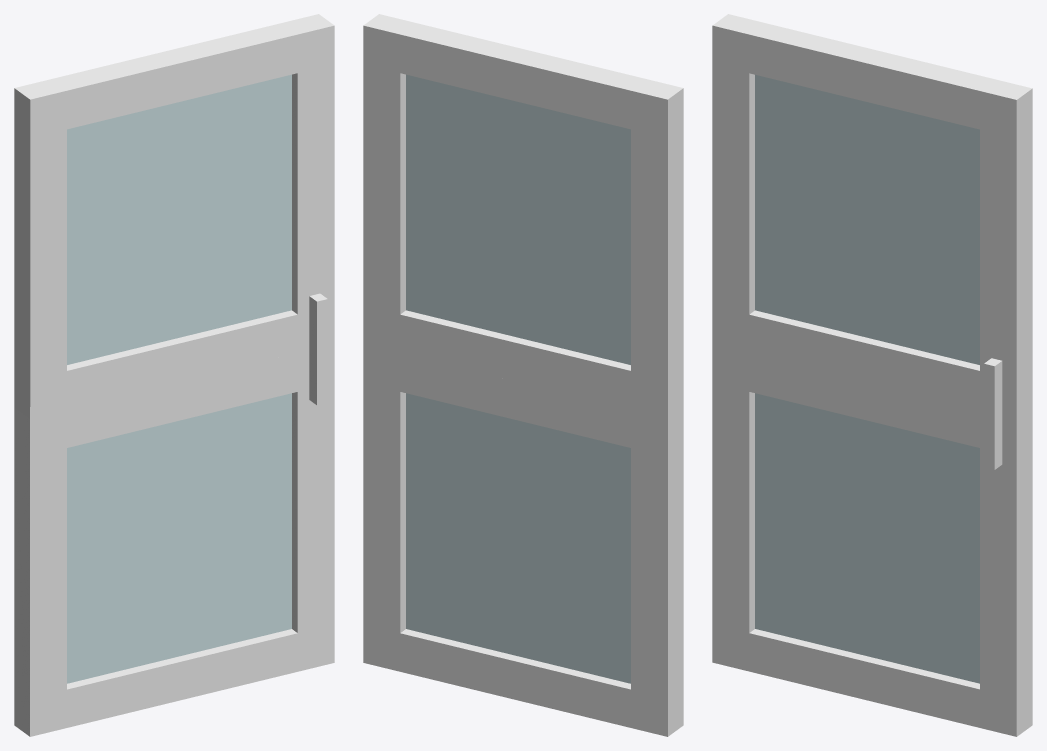
File: Itr_Window_Half_Left_01.FBX
3 views of the same model, side by side, from view 1: azimuth 30°, elevation 25°; view 2: azimuth 150°, elevation 25°; view 3: azimuth 330°, elevation 25° (orthographic).
Visible parts, largest first — view 1: Itr_Window_Half_Left_01; view 2: Itr_Window_Half_Left_01; view 3: Itr_Window_Half_Left_01.
Boxes of the visible parts, bbox=[...] form: Itr_Window_Half_Left_01: bbox=[14, 14, 334, 736]; Itr_Window_Half_Left_01: bbox=[363, 14, 683, 736]; Itr_Window_Half_Left_01: bbox=[712, 14, 1032, 736].
Bounding box in the file's own units: 32.64 × 65.29 × 4.34.
